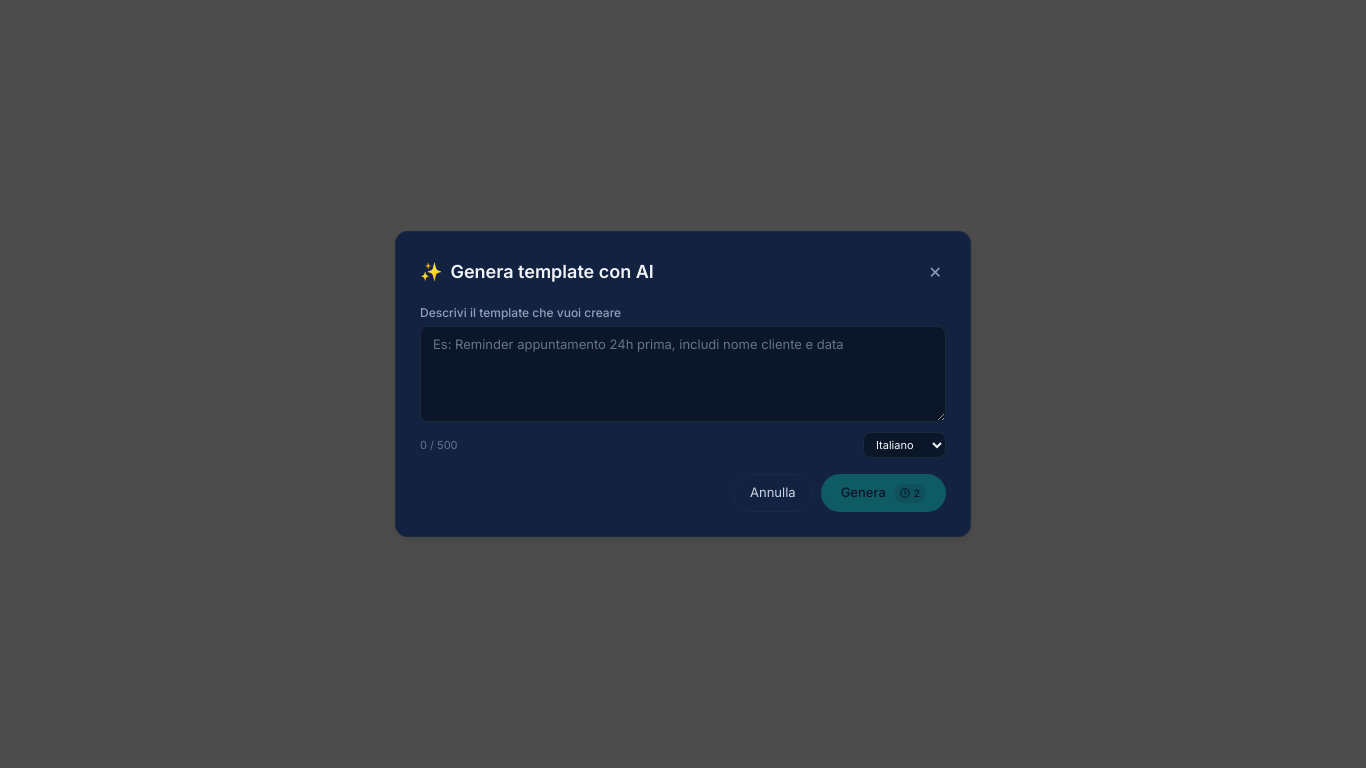
<GenerateWithAI> › shows API error message on 5xx response
This screenshot has width=1366, height=768.
Type "test" into the text box with placeholder "Reminder" at (683, 374), box [420,326,946,422]
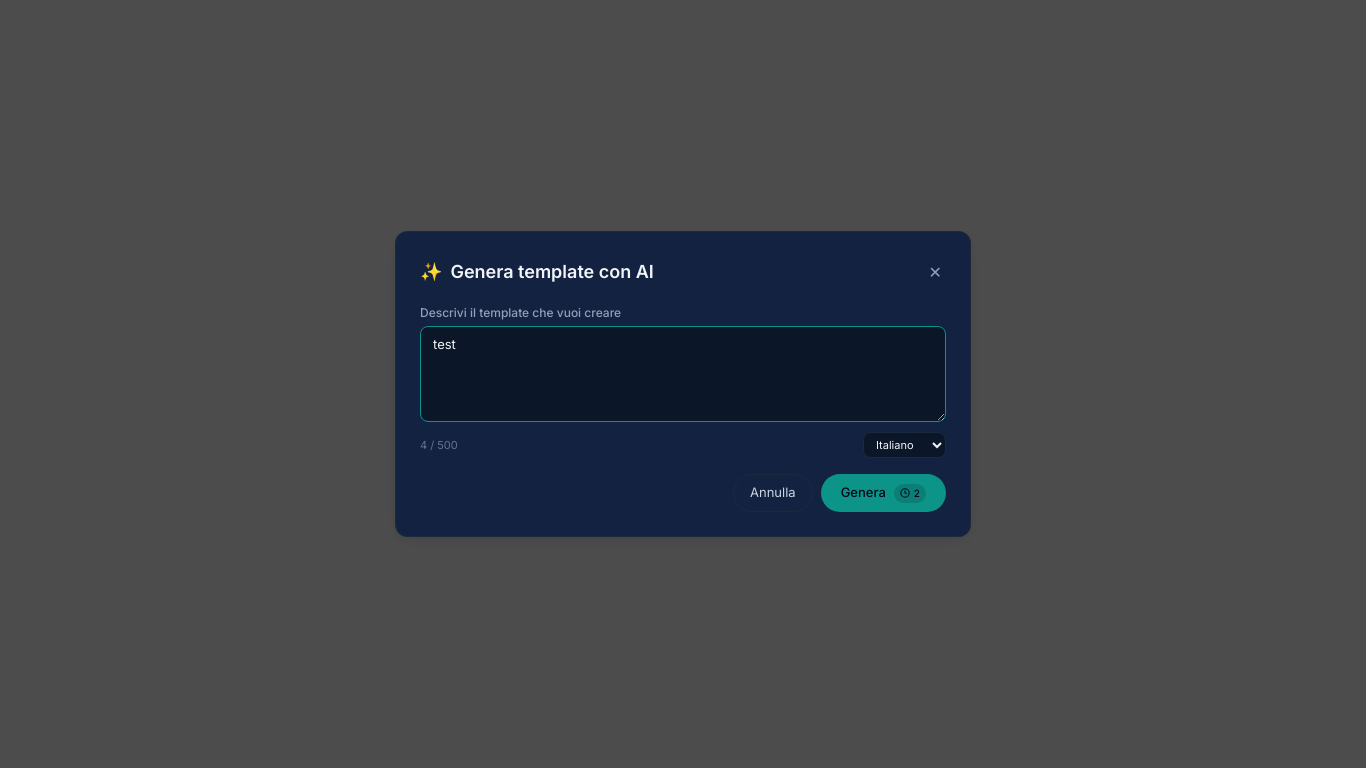
Click the button "Genera 2" at (883, 493), box [821,474,946,512]
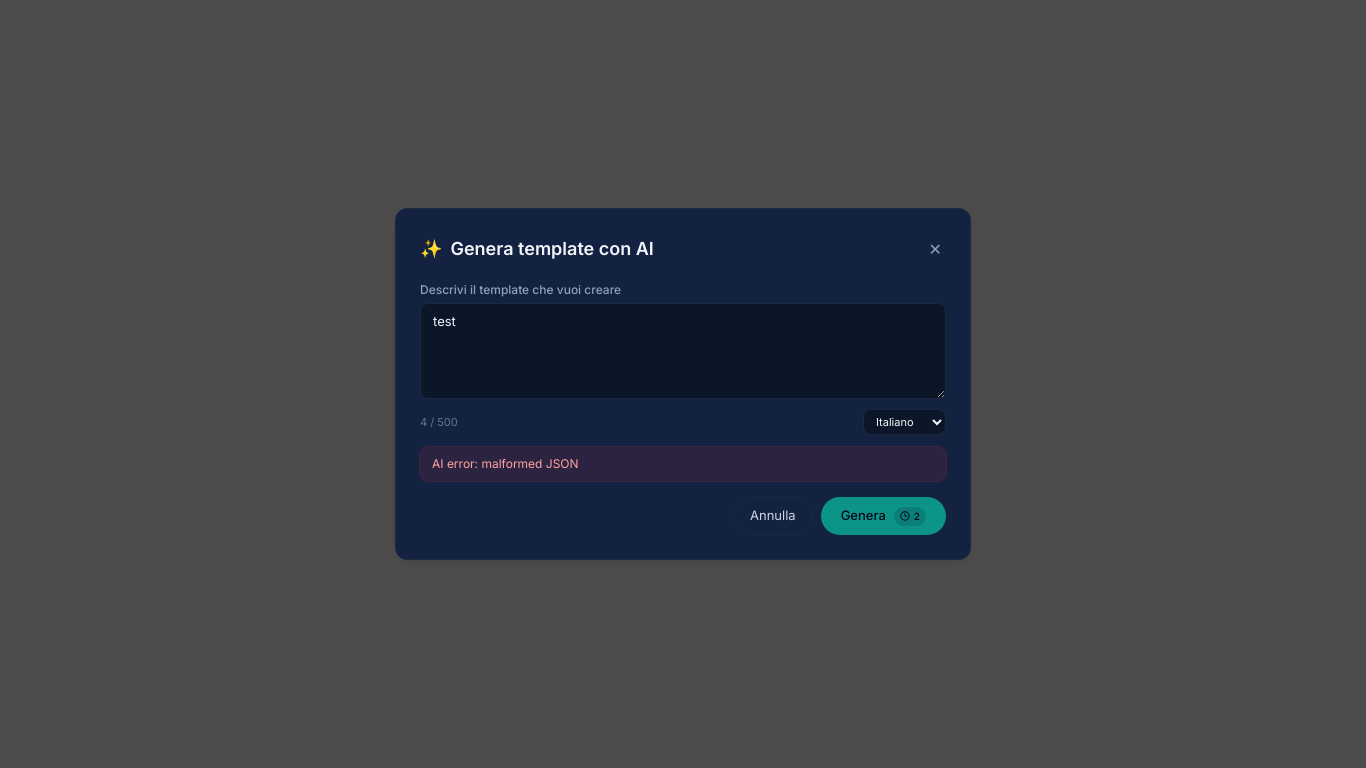
Now the text "AI error: malformed JSON" is shown, box [420,447,946,481]
